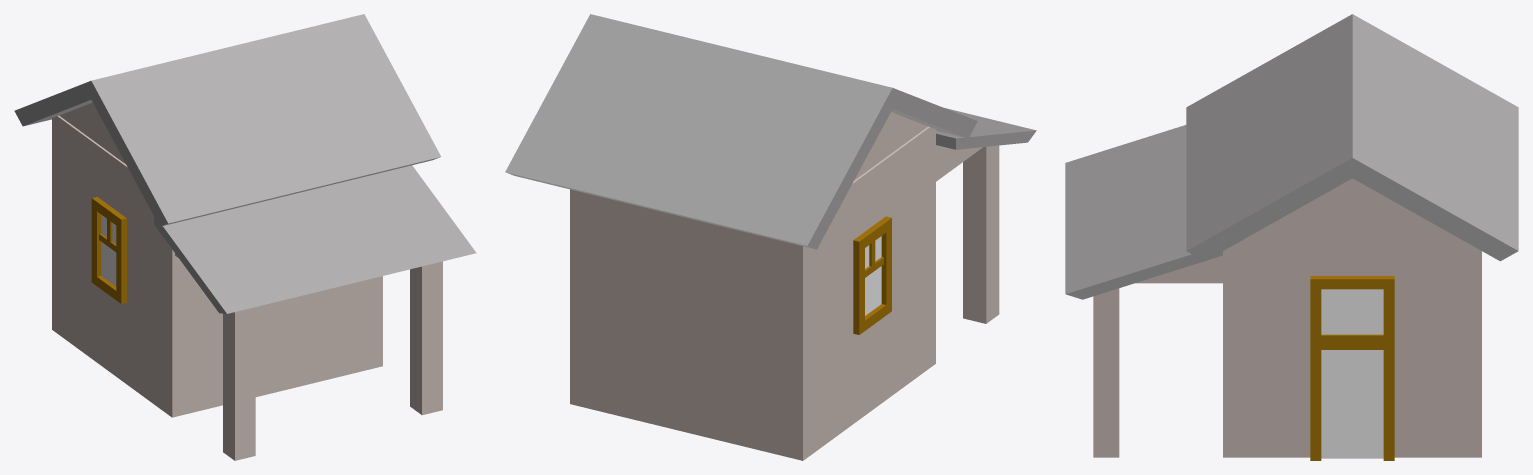
Rendered from Cabin.glb.
3 renders of one model, left to right at view 1: azimuth 30°, elevation 25°; view 2: azimuth 150°, elevation 25°; view 3: azimuth 270°, elevation 25°, orthographic. The views are drawn at different scales.
Parts seen in each view (by area): view 1: mergedBlocks; view 2: mergedBlocks; view 3: mergedBlocks.
Part boxes in pixels (<box>): mergedBlocks: <box>14,14,476,460</box>; mergedBlocks: <box>505,14,1036,460</box>; mergedBlocks: <box>1065,14,1518,460</box>.
Size of the model in its own units: 1.31 by 1.37 by 1.75.
